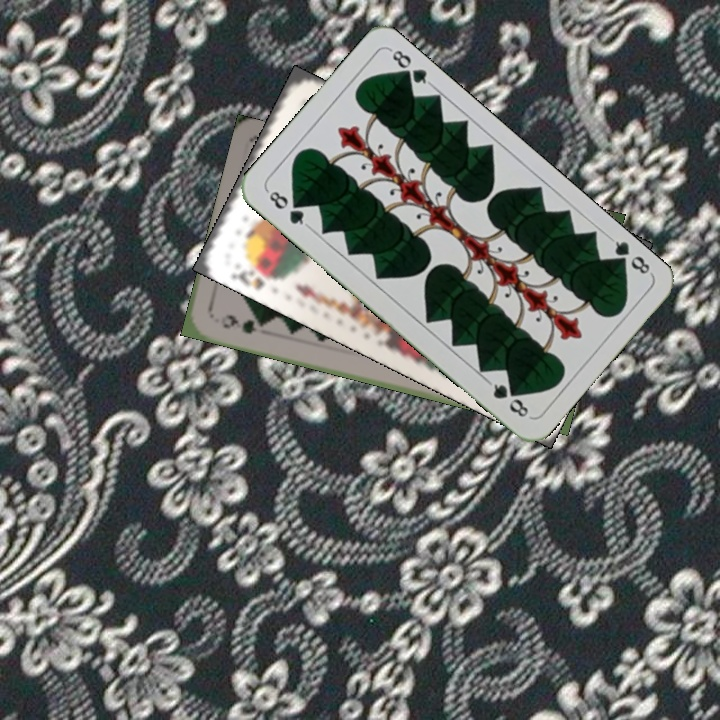G8: (606, 233, 654, 278), (263, 186, 312, 230)
G9: (217, 310, 259, 337)
SK: (227, 262, 282, 293)
